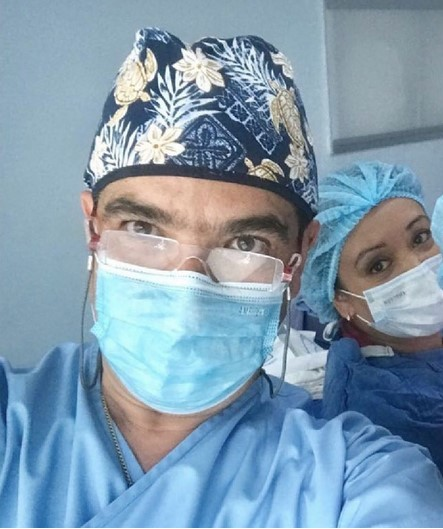face_with_mask: (81, 27, 322, 416), (303, 158, 441, 348)
